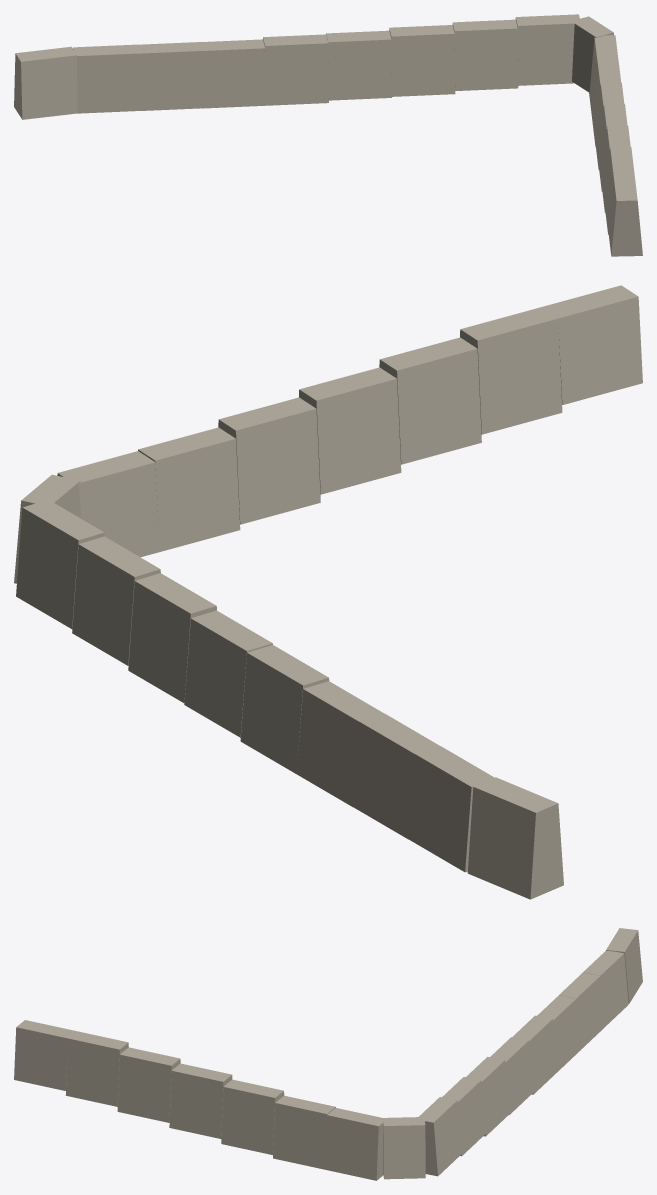
File: bormla_65_28_far.glb
The picture shows the model from 3 angles, top to bottom: view 1: azimuth 30°, elevation 25°; view 2: azimuth 150°, elevation 25°; view 3: azimuth 270°, elevation 25°; orthographic projection. The views are drawn at different scales.
Parts seen in each view (by area): view 1: geometry_0; view 2: geometry_0; view 3: geometry_0.
Boxes of the visible parts, left/top/right/bottom form: geometry_0: left=14, top=14, right=642, bottom=256; geometry_0: left=14, top=285, right=642, bottom=899; geometry_0: left=14, top=928, right=642, bottom=1180.
Size of the model in its own units: 103 by 18.45 by 130.
